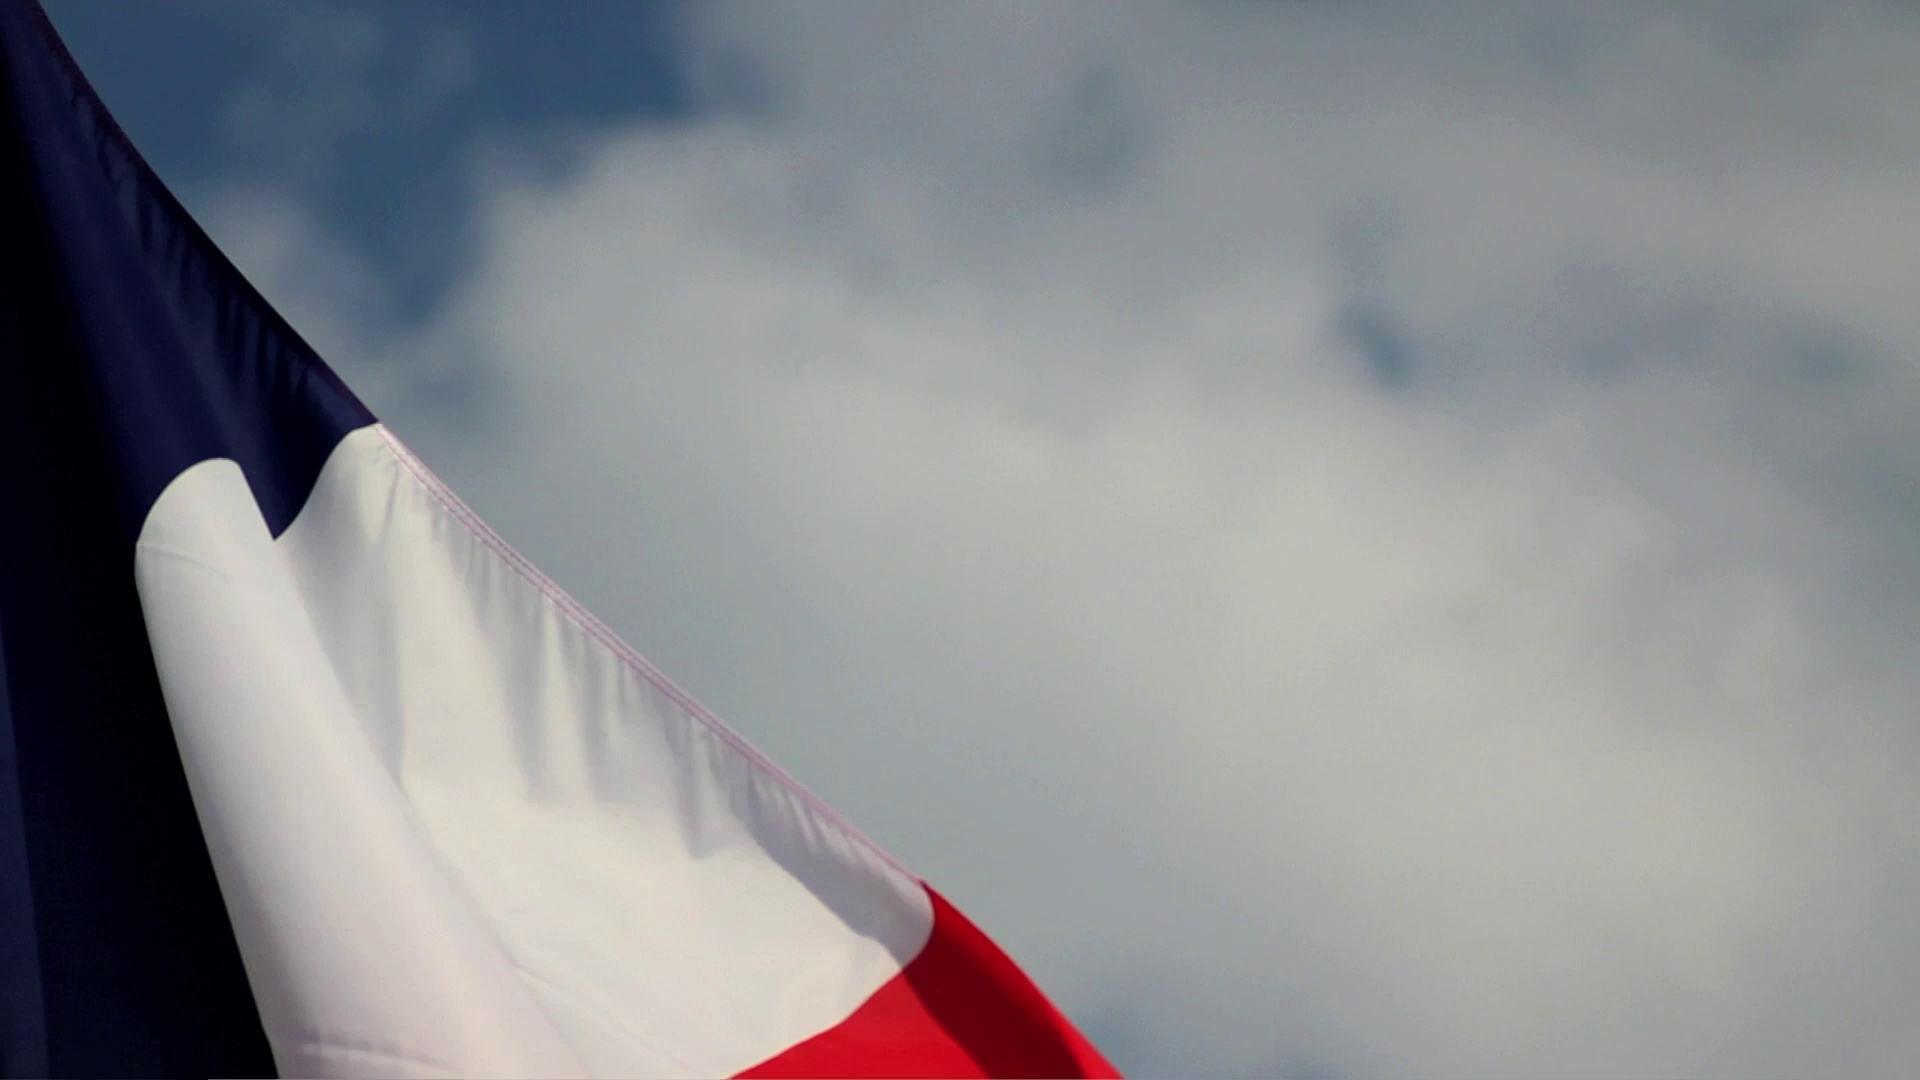French Flag: (1, 1, 1131, 1080)
